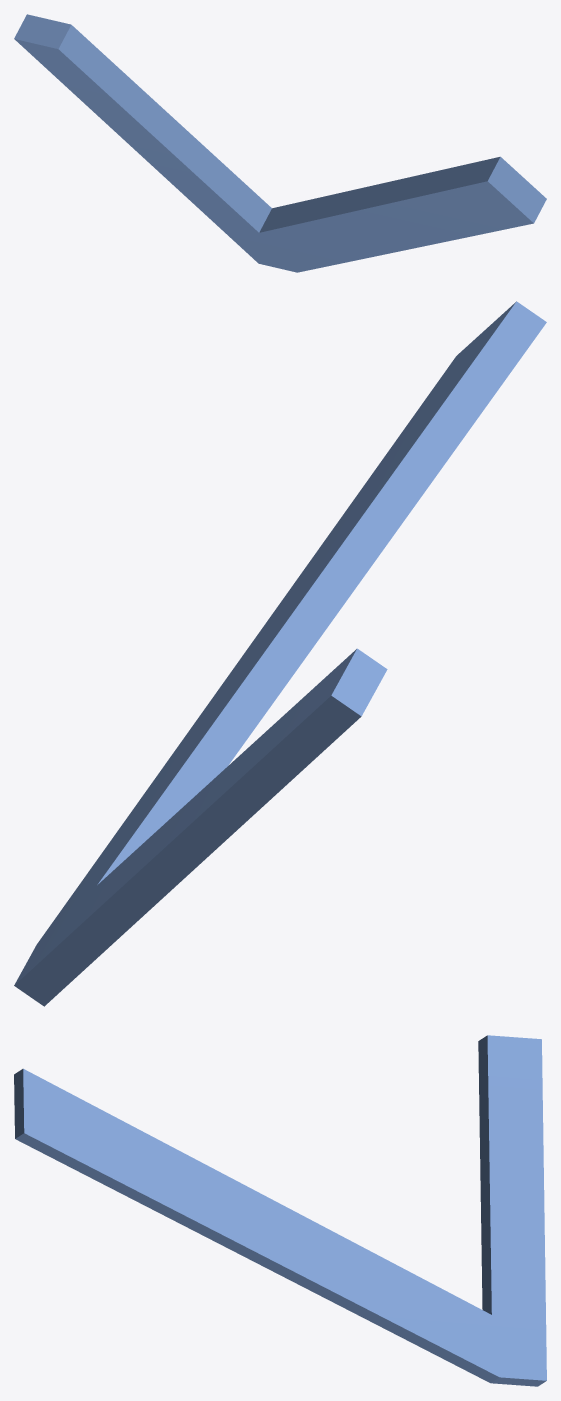
Rendered from New_Number_7.gltf.
3 views of the same model, one above another, from view 1: azimuth 30°, elevation 25°; view 2: azimuth 150°, elevation 25°; view 3: azimuth 270°, elevation 25° (orthographic). The views are drawn at different scales.
Visible parts, largest first — view 1: Part 583; view 2: Part 583; view 3: Part 583.
Part boxes in pixels (x1=…): Part 583: x1=14, y1=14, x2=546, y2=272; Part 583: x1=14, y1=301, x2=546, y2=1006; Part 583: x1=14, y1=1035, x2=546, y2=1386.
Size of the model in its own units: 0.00274 by 0.0033 by 0.00546.
